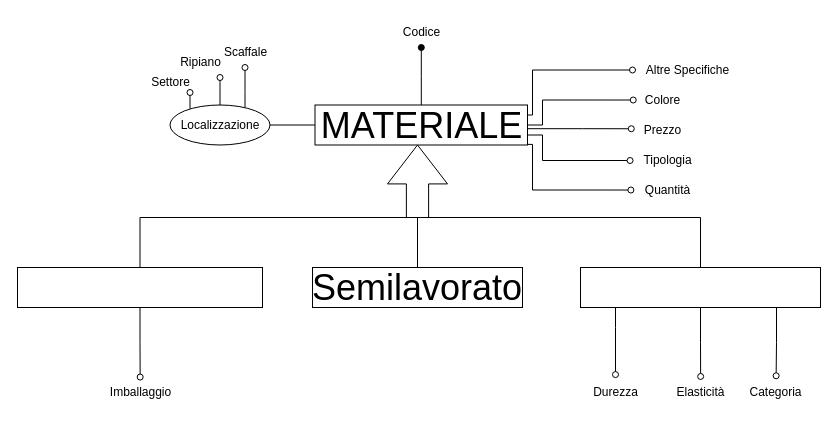
Some shapes in this 838 by 424 pixel diagram are drawn without their labels. The shapes that lost their labels are listed below. From the top down, each one's centre as x and y in pixels, then its label:
At point (139, 287): "Prodotto Finito".
At point (700, 287): "Materia Prima".
